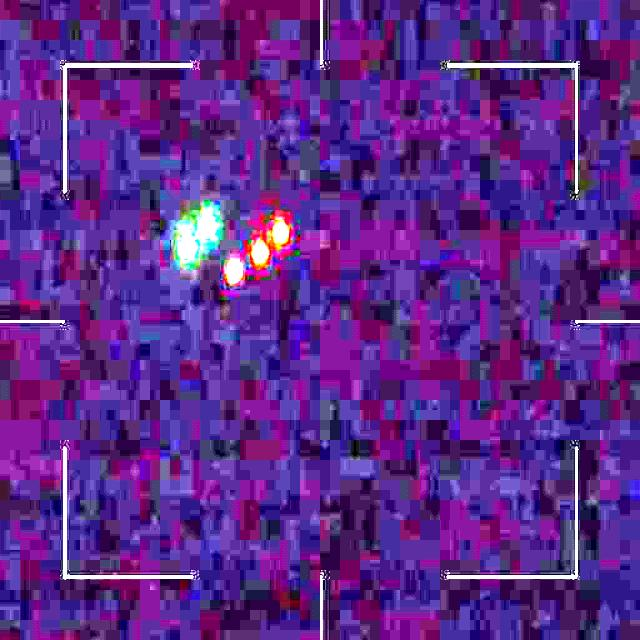bird: (179, 208, 289, 284)
